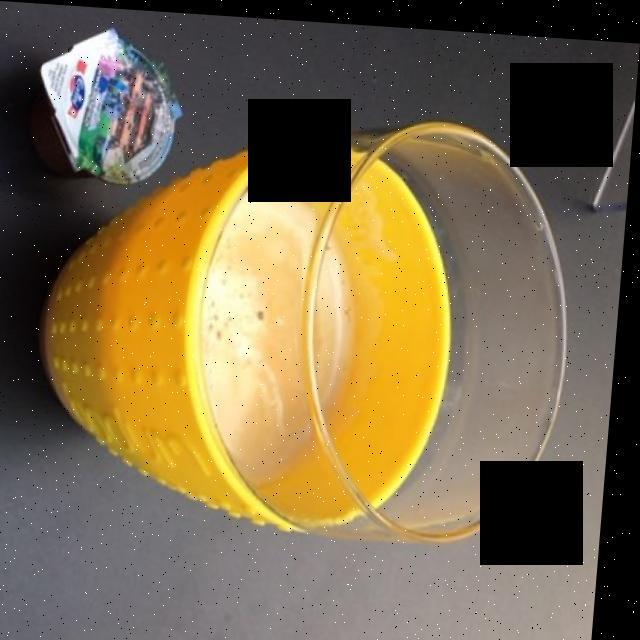coffee: (46, 190, 343, 475)
